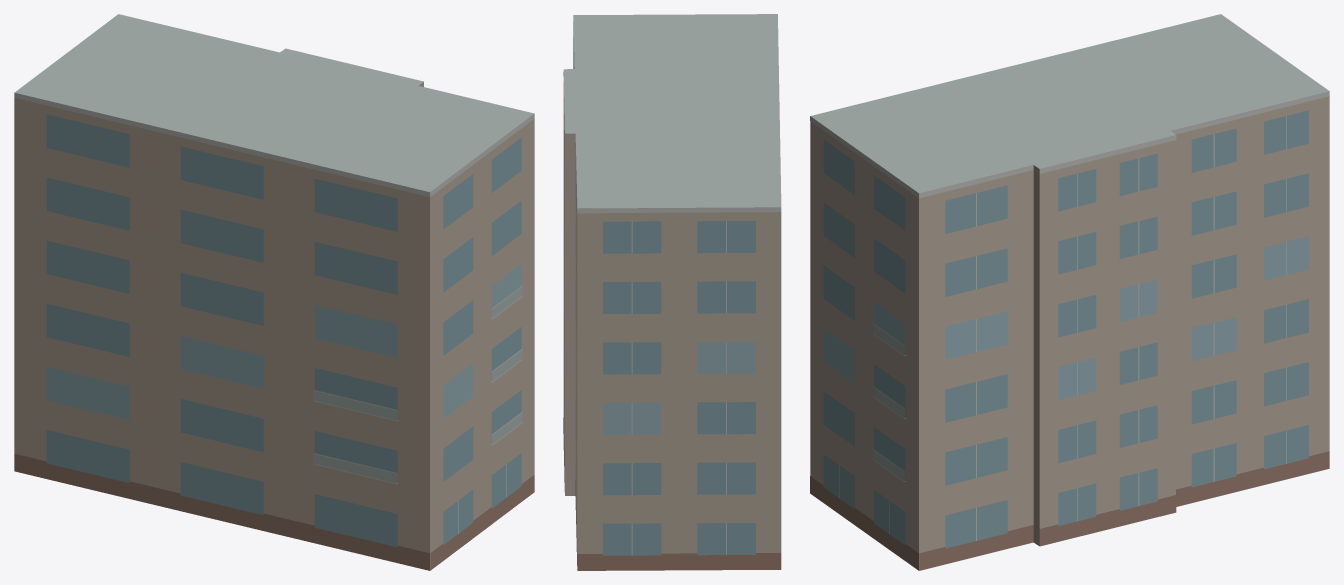
The model's file is survey-upis-32740043.glb.
3 views of the same model, side by side, from view 1: azimuth 30°, elevation 25°; view 2: azimuth 150°, elevation 25°; view 3: azimuth 270°, elevation 25° (orthographic). The views are drawn at different scales.
Parts seen in each view (by area): view 1: survey-upis-32740043.tmp; view 2: survey-upis-32740043.tmp; view 3: survey-upis-32740043.tmp.
Part boxes in pixels (left/top/right/bottom): survey-upis-32740043.tmp: left=14, top=14, right=534, bottom=570; survey-upis-32740043.tmp: left=563, top=14, right=781, bottom=570; survey-upis-32740043.tmp: left=810, top=14, right=1329, bottom=570.
Size of the model in its own units: 18.66 by 18.3 by 22.83.
